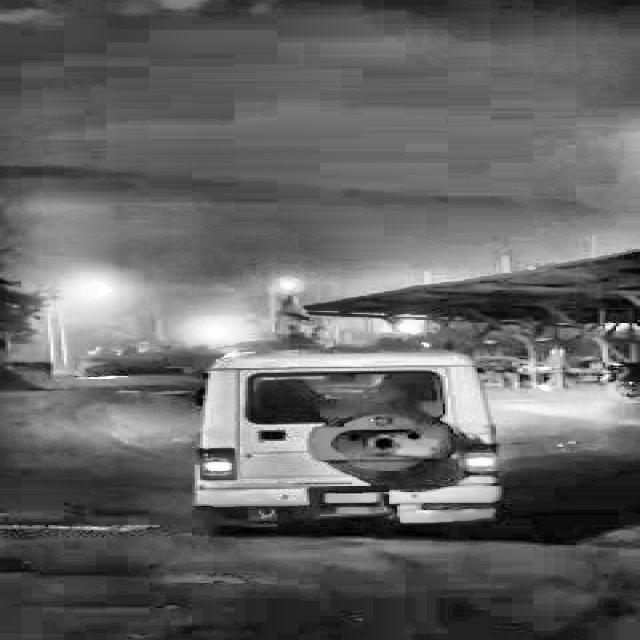light_vehicle: (178, 355, 515, 518)
